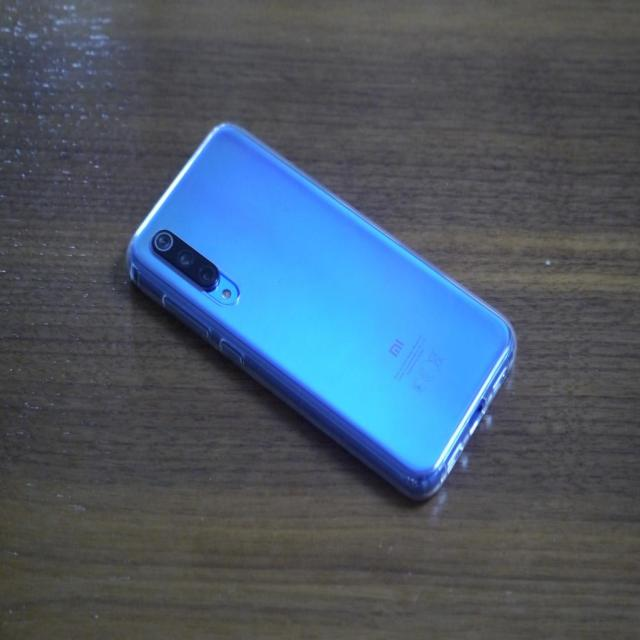Phone: (123, 121, 517, 500)
